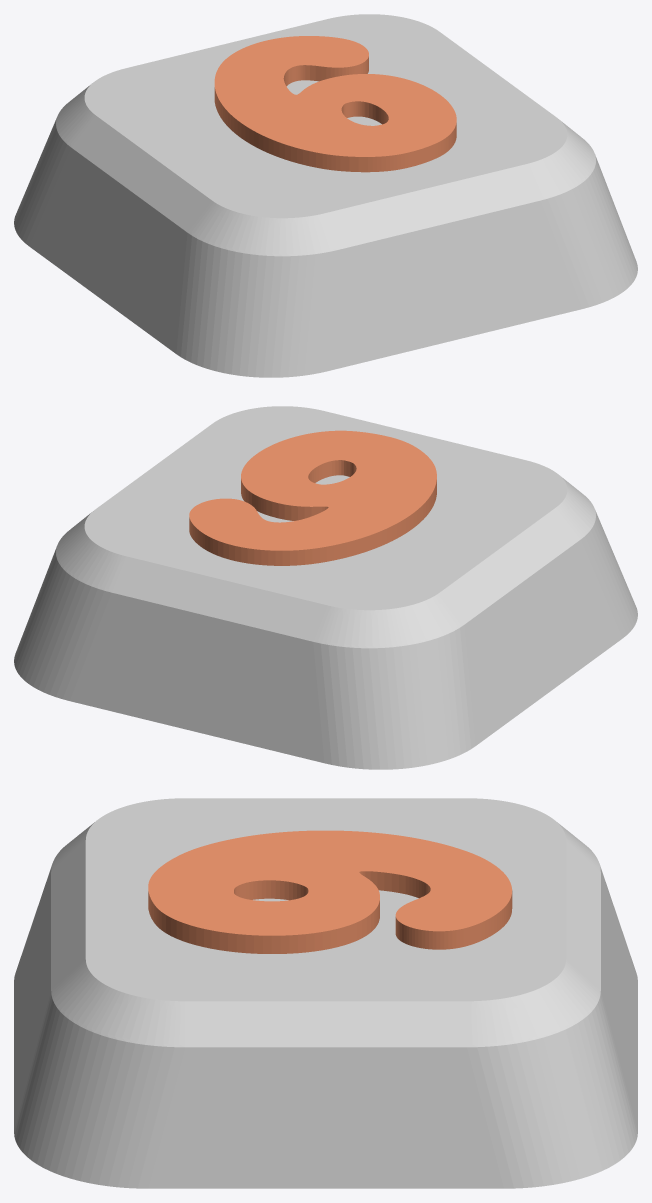
The model's file is cap-6.glb.
The picture shows the model from 3 angles, top to bottom: view 1: azimuth 30°, elevation 25°; view 2: azimuth 150°, elevation 25°; view 3: azimuth 270°, elevation 25°; orthographic projection. The views are drawn at different scales.
Parts seen in each view (by area): view 1: cap_0, glyph_1; view 2: cap_0, glyph_1; view 3: cap_0, glyph_1.
Part boxes in pixels (x1,y1,x2,y2): cap_0: [14, 14, 637, 377]; glyph_1: [214, 36, 456, 172]; cap_0: [14, 406, 637, 769]; glyph_1: [189, 430, 436, 565]; cap_0: [14, 798, 637, 1188]; glyph_1: [148, 830, 512, 953].
Size of the model in its own units: 18 by 5.59 by 18.
